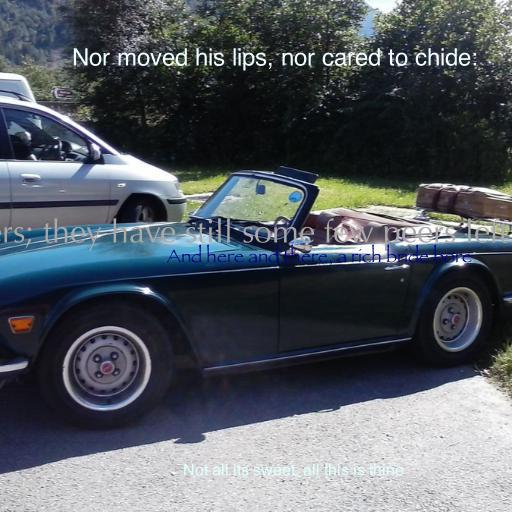Apple Chancery: (182, 463, 404, 478)
Impact: (72, 48, 478, 71)
Optima: (0, 218, 512, 251)
Papyrus: (166, 244, 472, 266)
